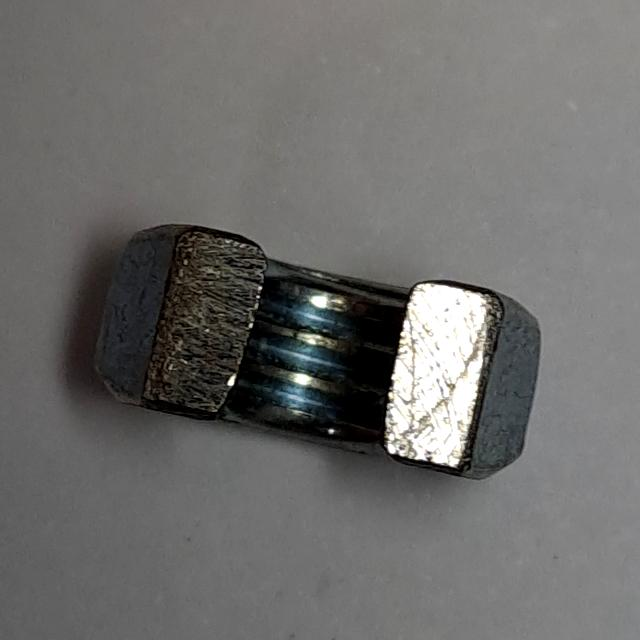Side-Fracture: (81, 201, 555, 500)
